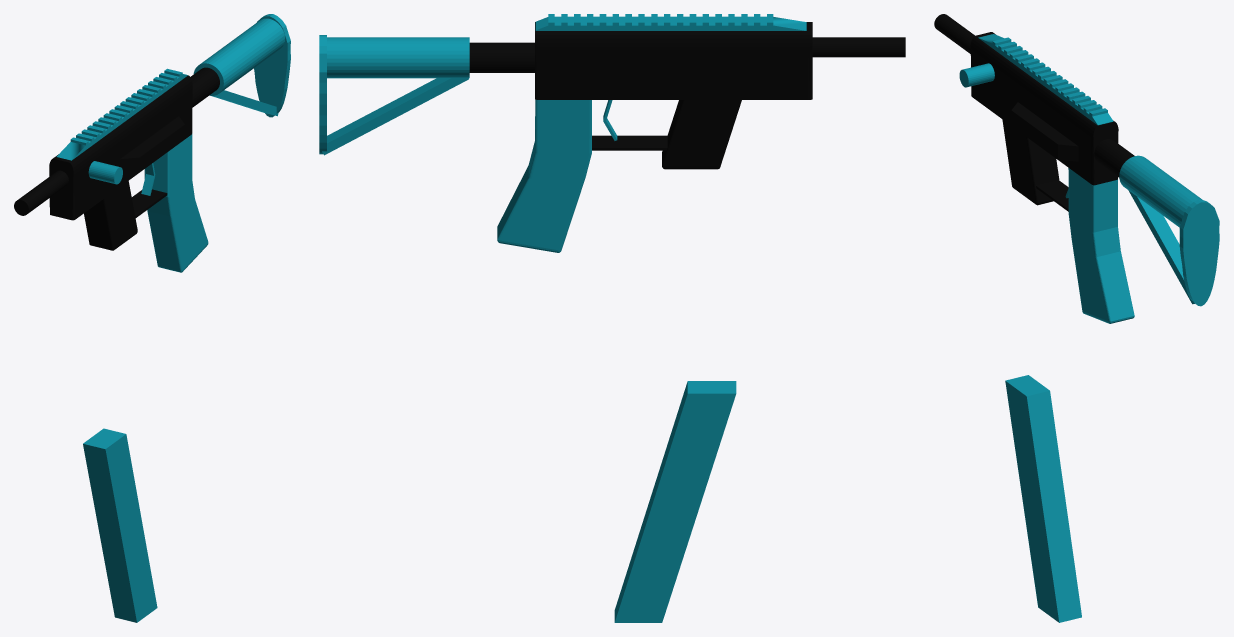
Rendered from fgc0012.obj.
3 views of the same model, side by side, from view 1: azimuth 30°, elevation 25°; view 2: azimuth 150°, elevation 25°; view 3: azimuth 270°, elevation 25° (orthographic). The views are drawn at different scales.
Parts seen in each view (by area): view 1: mag, upperReceiver, rearPistolGrip, StockCylinder, picatinyRail, magWell, buttPlate, ejectorCover, barrel, bufferTube, stockSupport, chargingHandle (+1 smaller); view 2: upperReceiver, mag, rearPistolGrip, StockCylinder, magWell, picatinyRail, stockSupport, bufferTube, barrel, lowerTriggerGuard, buttPlate; view 3: mag, rearPistolGrip, upperReceiver, buttPlate, StockCylinder, picatinyRail, magWell, ejectorCover, stockSupport, bufferTube, barrel, chargingHandle (+1 smaller).
Part boxes in pixels (x1,y1,x2,y2): mag: [83, 428, 157, 622]; upperReceiver: [49, 75, 192, 220]; rearPistolGrip: [144, 134, 208, 272]; StockCylinder: [193, 18, 284, 95]; picatinyRail: [56, 68, 187, 160]; magWell: [84, 181, 137, 250]; buttPlate: [254, 14, 290, 117]; ejectorCover: [120, 116, 184, 173]; barrel: [14, 170, 68, 215]; bufferTube: [190, 67, 219, 107]; stockSupport: [212, 90, 278, 116]; chargingHandle: [88, 161, 122, 184]; upperReceiver: [535, 22, 812, 99]; mag: [614, 381, 736, 622]; rearPistolGrip: [497, 99, 591, 252]; StockCylinder: [327, 37, 469, 78]; magWell: [662, 100, 741, 169]; picatinyRail: [535, 14, 806, 30]; stockSupport: [322, 78, 468, 155]; bufferTube: [469, 42, 534, 72]; barrel: [812, 37, 905, 57]; lowerTriggerGuard: [592, 135, 667, 150]; buttPlate: [319, 35, 326, 154]; mag: [1005, 375, 1081, 622]; rearPistolGrip: [1068, 168, 1134, 323]; upperReceiver: [970, 32, 1118, 185]; buttPlate: [1179, 199, 1219, 306]; StockCylinder: [1119, 155, 1201, 227]; picatinyRail: [978, 34, 1113, 125]; magWell: [1002, 119, 1059, 205]; ejectorCover: [1011, 102, 1078, 161]; stockSupport: [1128, 190, 1194, 304]; bufferTube: [1094, 139, 1134, 177]; barrel: [934, 14, 974, 53]; chargingHandle: [959, 63, 994, 87].
Size of the model in its own units: 4.08 by 5.14 by 2.51.
